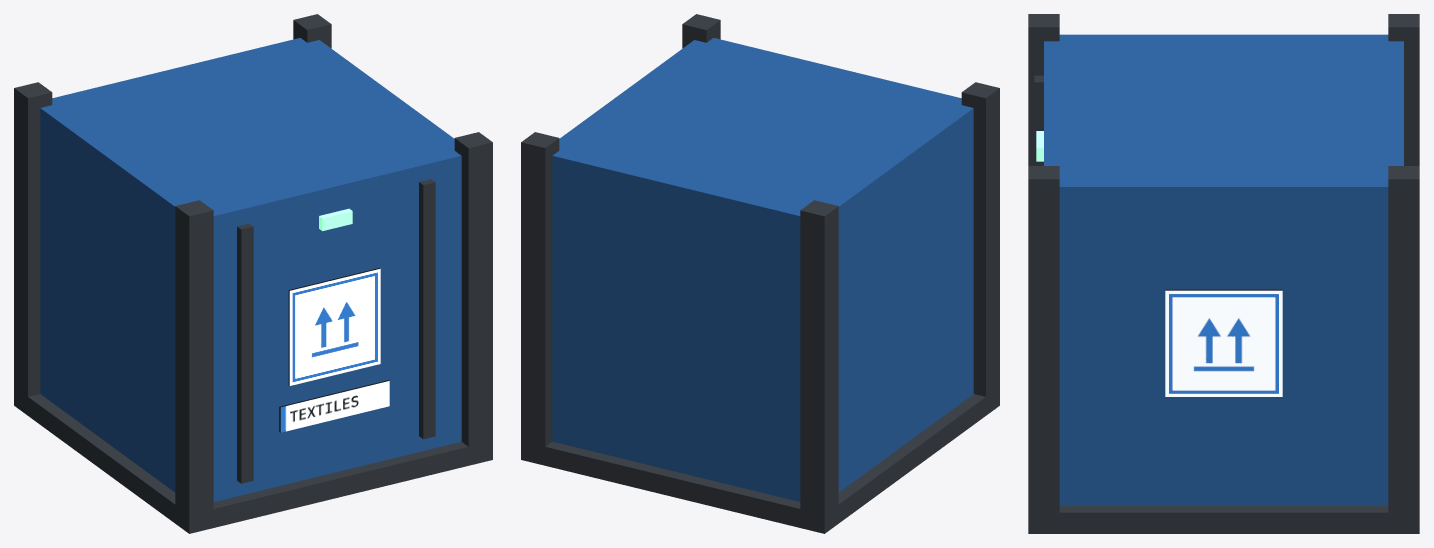
Rendered from cargo_01_freight.glb.
The picture shows the model from 3 angles, left to right: view 1: azimuth 30°, elevation 25°; view 2: azimuth 150°, elevation 25°; view 3: azimuth 270°, elevation 25°; orthographic projection. The views are drawn at different scales.
Parts seen in each view (by area): view 1: body, base, post_3, post_4, placard_front, post_1, door_rib_1, door_rib_2, manifest, post_2, status_lamp; view 2: body, post_1, base, post_2, post_3, post_4; view 3: body, placard_side, post_2, post_4, base, post_1, post_3, door_rib_1.
Part boxes in pixels (left/top/right/bottom): body: left=40, top=38, right=461, bottom=501; base: left=14, top=387, right=492, bottom=533; post_3: left=175, top=200, right=213, bottom=533; post_4: left=454, top=132, right=492, bottom=460; placard_front: left=288, top=268, right=380, bottom=385; post_1: left=14, top=82, right=52, bottom=415; door_rib_1: left=237, top=223, right=253, bottom=483; door_rib_2: left=419, top=179, right=435, bottom=439; manifest: left=279, top=380, right=389, bottom=432; post_2: left=293, top=14, right=331, bottom=48; status_lamp: left=319, top=208, right=352, bottom=231; body: left=552, top=38, right=973, bottom=501; post_1: left=800, top=200, right=838, bottom=533; base: left=521, top=387, right=999, bottom=532; post_2: left=521, top=132, right=559, bottom=459; post_3: left=961, top=82, right=999, bottom=415; post_4: left=682, top=14, right=720, bottom=48; body: left=1044, top=34, right=1403, bottom=505; placard_side: left=1165, top=289, right=1282, bottom=396; post_2: left=1388, top=166, right=1419, bottom=533; post_4: left=1028, top=166, right=1059, bottom=533; base: left=1028, top=506, right=1419, bottom=533; post_1: left=1388, top=14, right=1419, bottom=165; post_3: left=1028, top=14, right=1059, bottom=165; door_rib_1: left=1034, top=75, right=1043, bottom=165.
Size of the model in its own units: 1 by 1 by 1.
6 materials, 2 textured.
